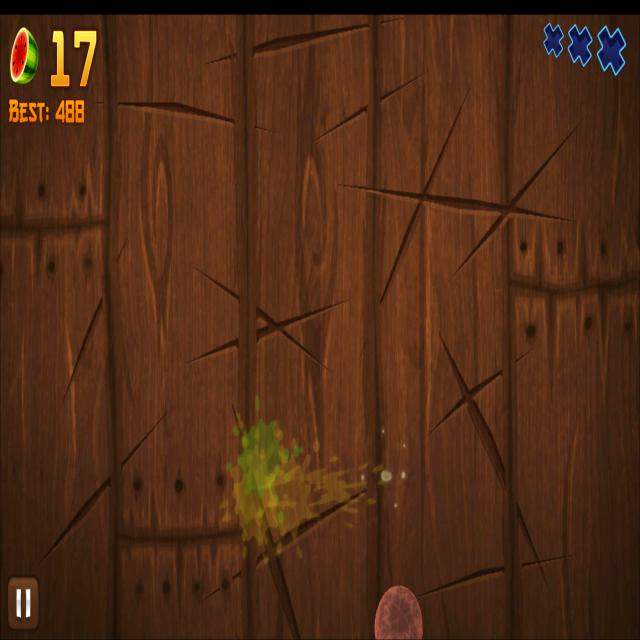fruit: (374, 582, 423, 640)
